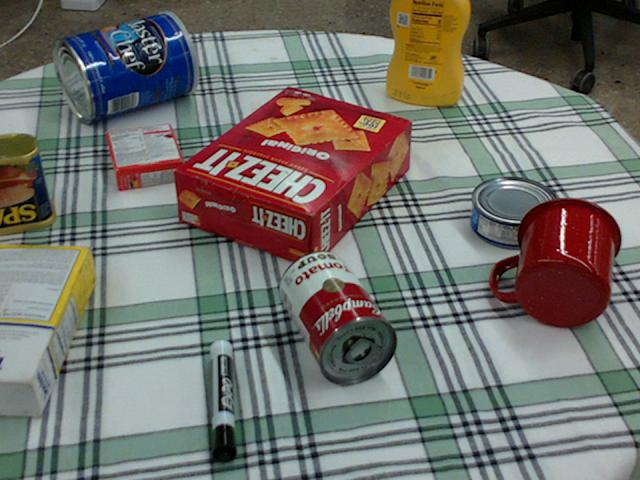cracker_box: (173, 87, 413, 267)
gelatin_box: (106, 123, 185, 192)
large_marker: (210, 340, 235, 465)
master_chef_can: (54, 12, 199, 125)
mug: (492, 195, 621, 326)
mustard_bottle: (386, 0, 470, 106)
potted_meat_can: (0, 132, 57, 234)
sugar_box: (0, 245, 92, 413)
tomato_soup_can: (279, 247, 397, 383)
tuna_fish_can: (472, 176, 560, 248)
